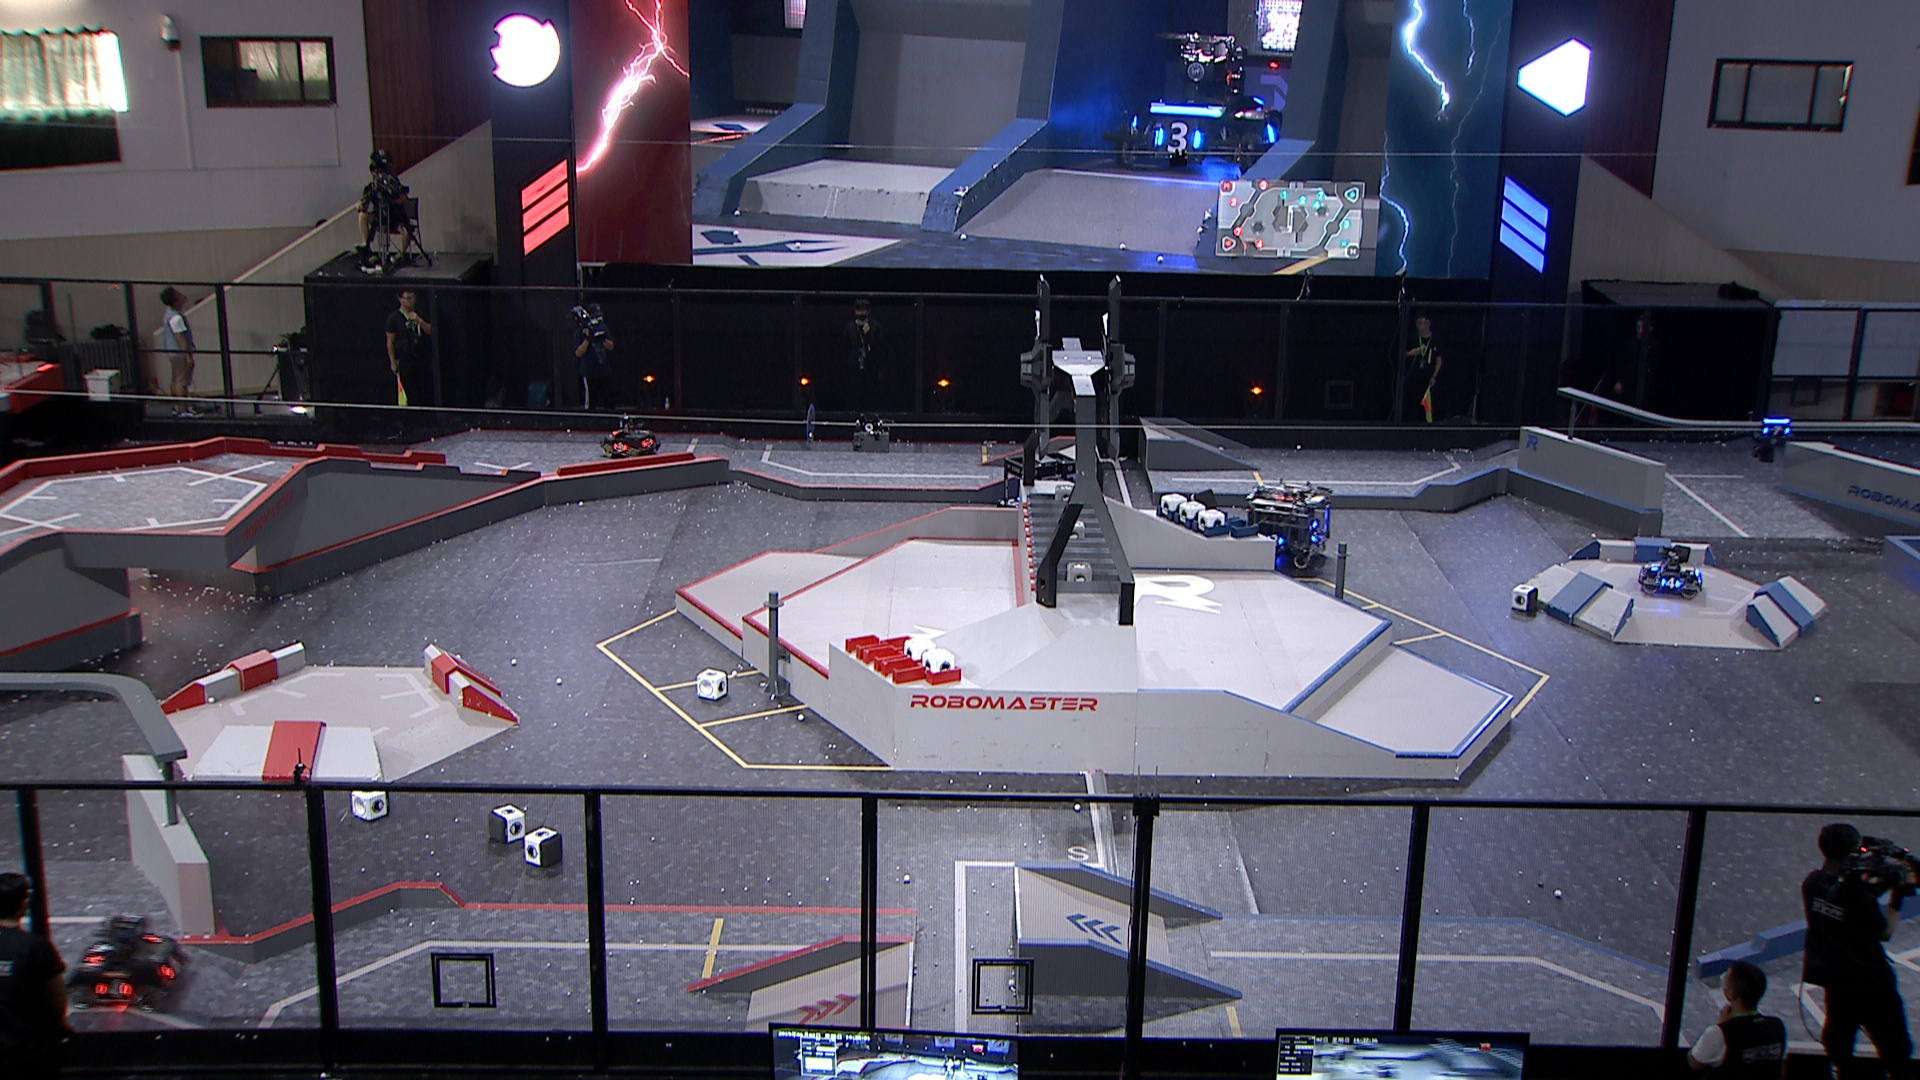armor: (95, 981, 135, 1002), (157, 957, 186, 982), (86, 940, 115, 964), (1762, 425, 1792, 436), (611, 442, 629, 456), (1660, 578, 1683, 589), (1266, 534, 1286, 546), (640, 436, 655, 451), (1309, 531, 1325, 545), (1648, 560, 1662, 574)
car: (65, 911, 193, 1015), (1244, 480, 1335, 570), (997, 448, 1091, 531), (1638, 545, 1705, 597), (600, 415, 661, 462)
ignore: (1106, 29, 1286, 171)
watcher: (1753, 418, 1792, 462)
